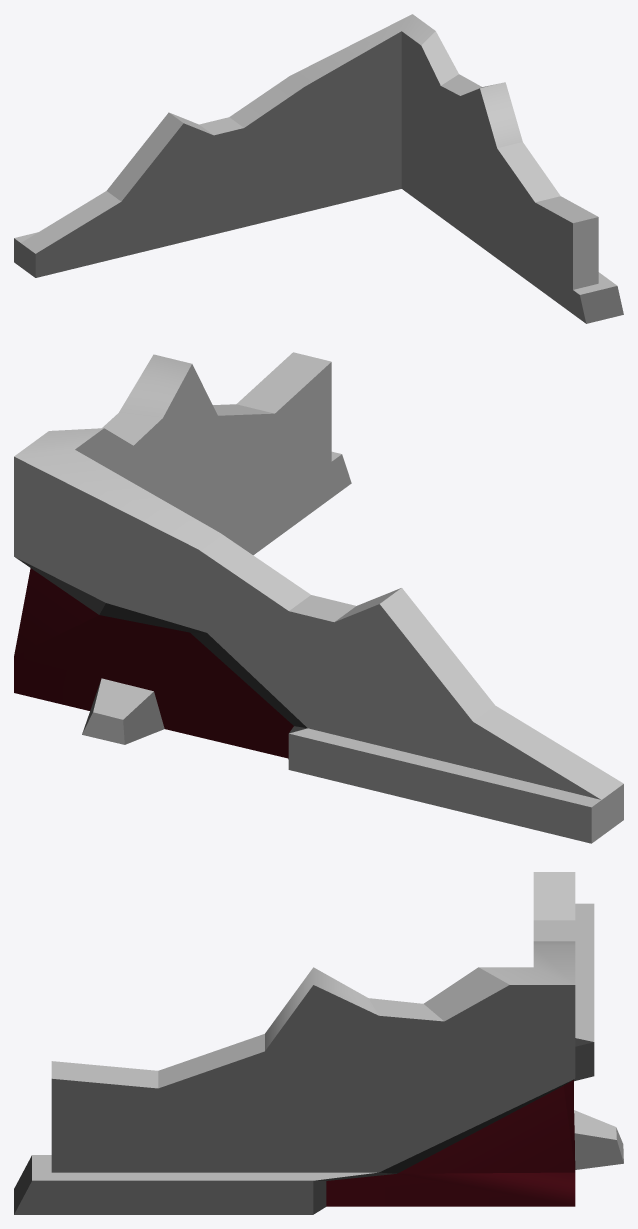
File: wall_damaged_08.fbx
3 views of the same model, one above another, from view 1: azimuth 30°, elevation 25°; view 2: azimuth 150°, elevation 25°; view 3: azimuth 270°, elevation 25° (orthographic). The views are drawn at different scales.
Parts seen in each view (by area): view 1: wall_damaged_08; view 2: wall_damaged_08; view 3: wall_damaged_08.
Boxes of the visible parts, box(x1,y1,x2,y2) form: wall_damaged_08: box(14, 14, 623, 323); wall_damaged_08: box(14, 352, 623, 843); wall_damaged_08: box(14, 872, 623, 1214).
Size of the model in its own units: 258 by 96.17 by 240.
